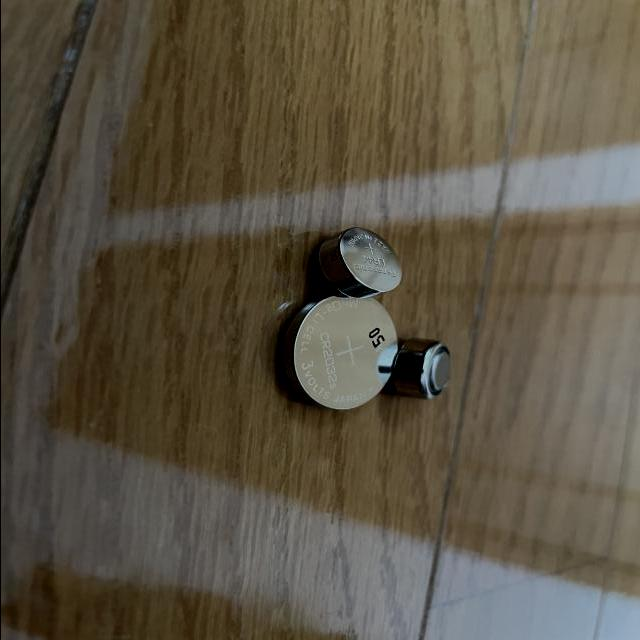COIN: (277, 293, 397, 410), (315, 226, 402, 298), (389, 338, 457, 400)
